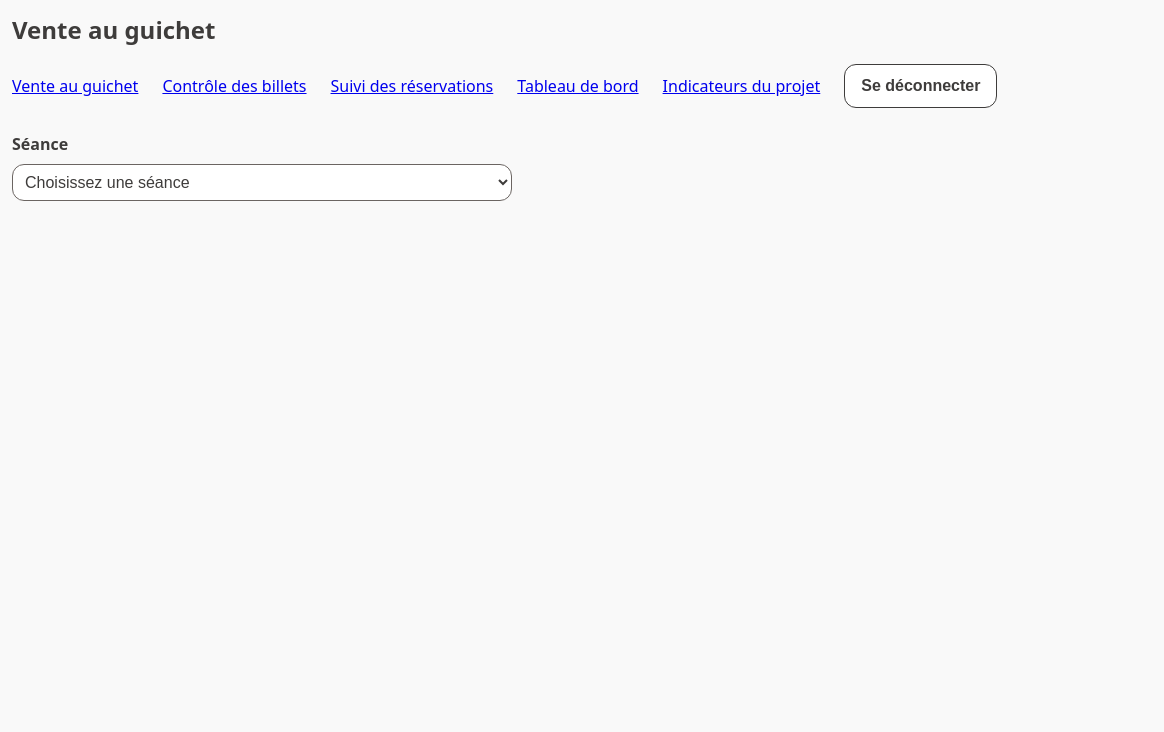
BoxOfficePage (US 7.2) › enregistre la vente avec le mode de paiement et propose les billets à imprimer
Select "ven. 9 oct. 20:30 · Le jazz à Mende · Salle 1 - IMAX" in the dropdown labelled "Séance" at {"x": 262, "y": 182}, box [12, 164, 512, 201]
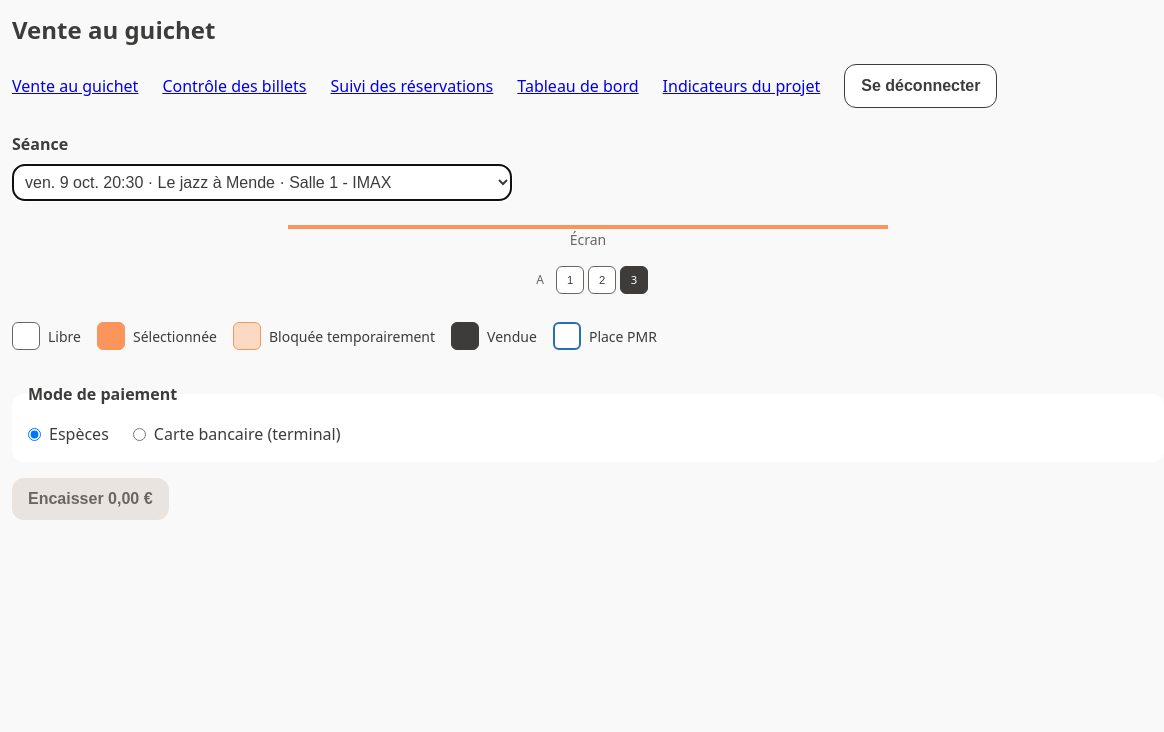
Click the button named "A1 libre".
click(570, 280)  # box [556, 266, 584, 294]
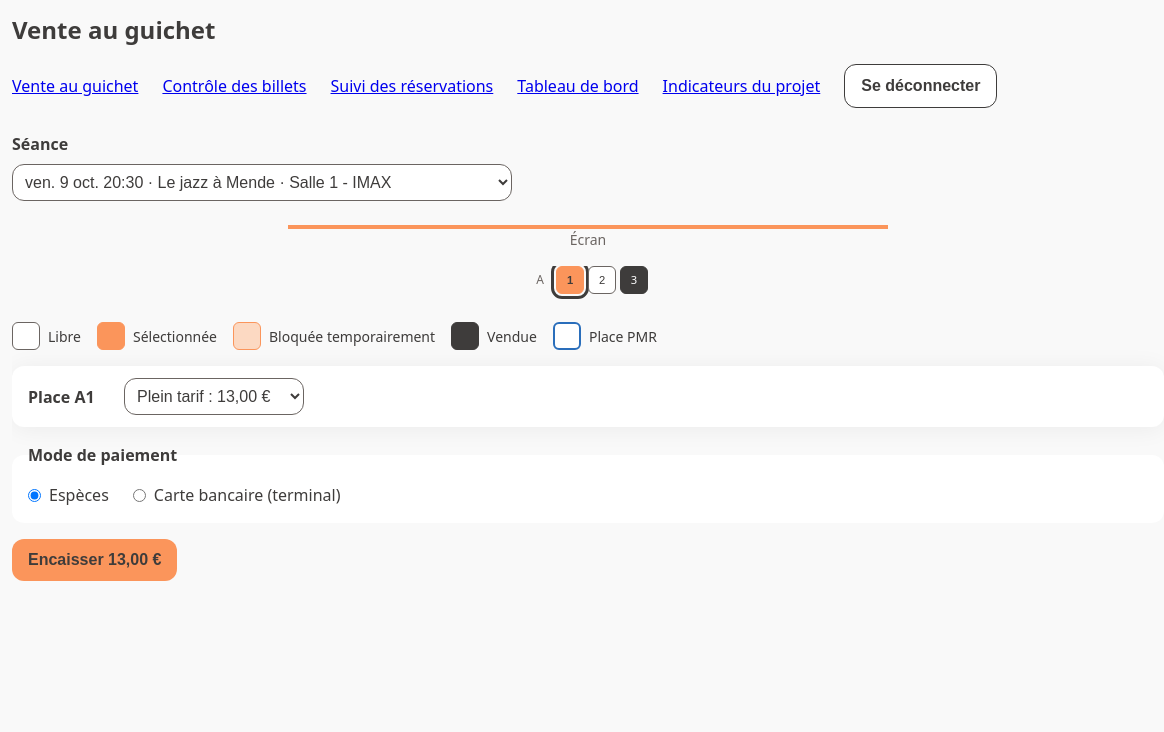
Click the button named "A2 libre".
click(602, 280)  # box [588, 266, 616, 294]
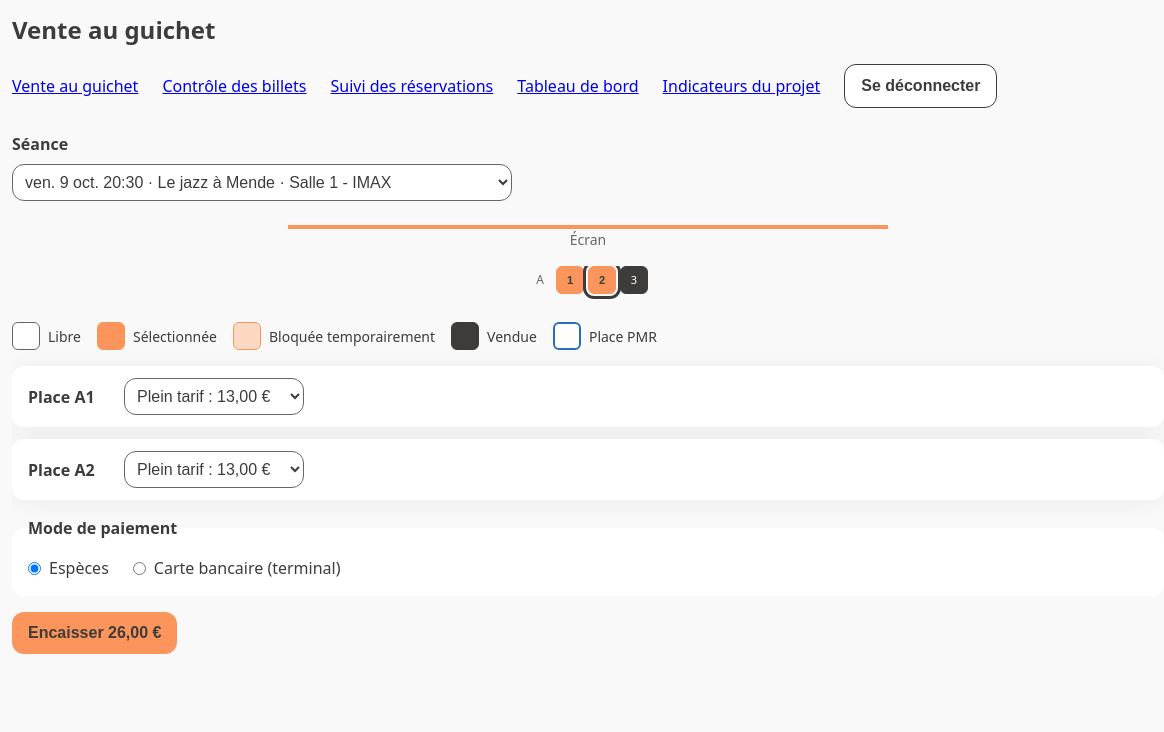
Select "Tarif réduit : 10,50 €" in the dropdown labelled "Place A1" at {"x": 214, "y": 396}, box [124, 378, 304, 415]
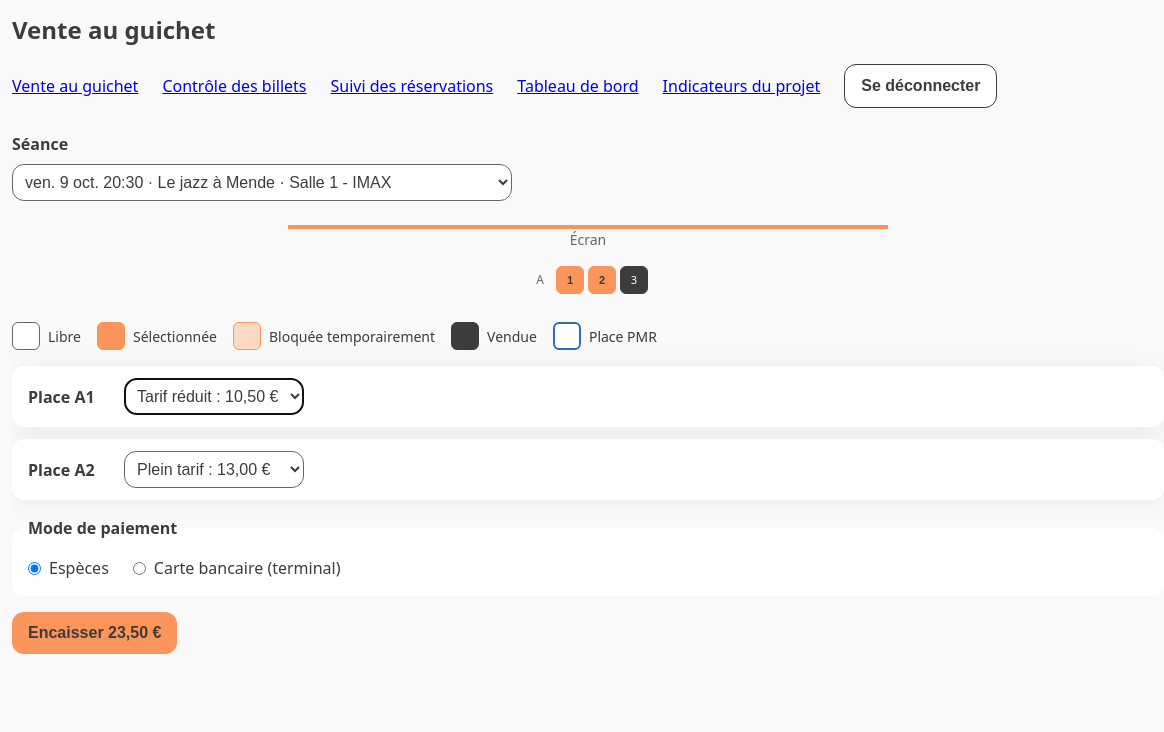
Click the radio button labelled "Carte bancaire (terminal)".
click(139, 568)  # box [133, 562, 146, 574]
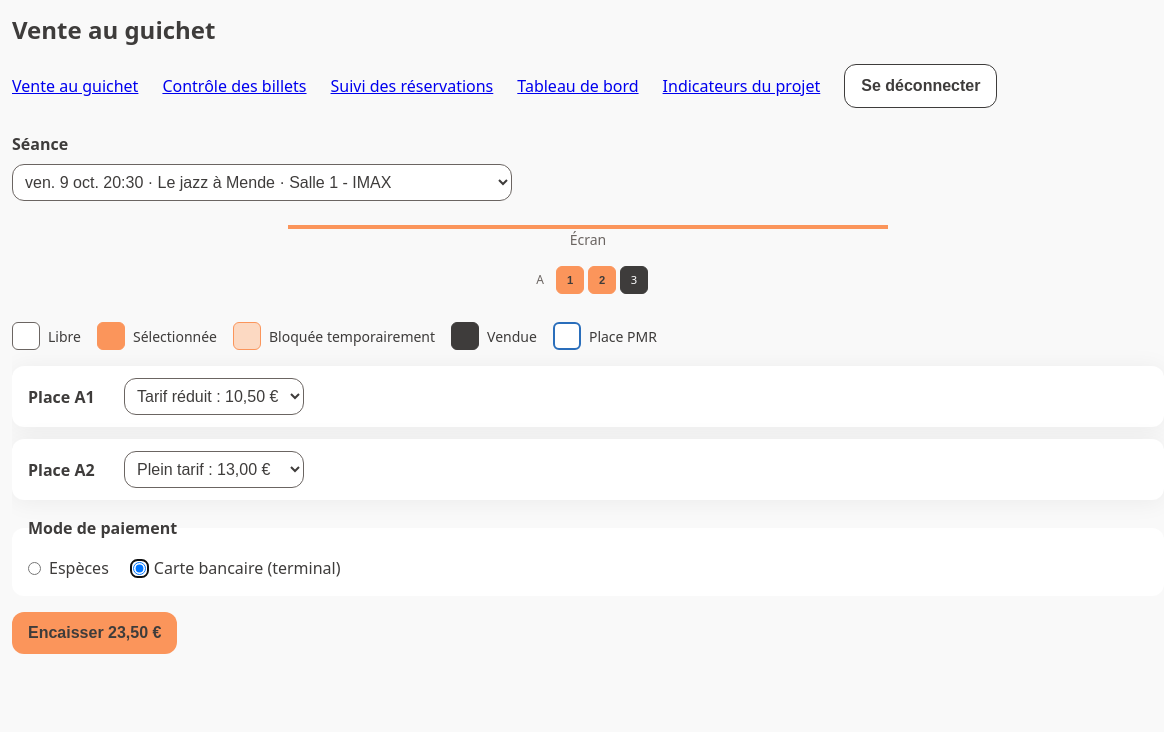
Click the button "Encaisser 23,50 €".
click(95, 633)  # box [12, 612, 177, 654]
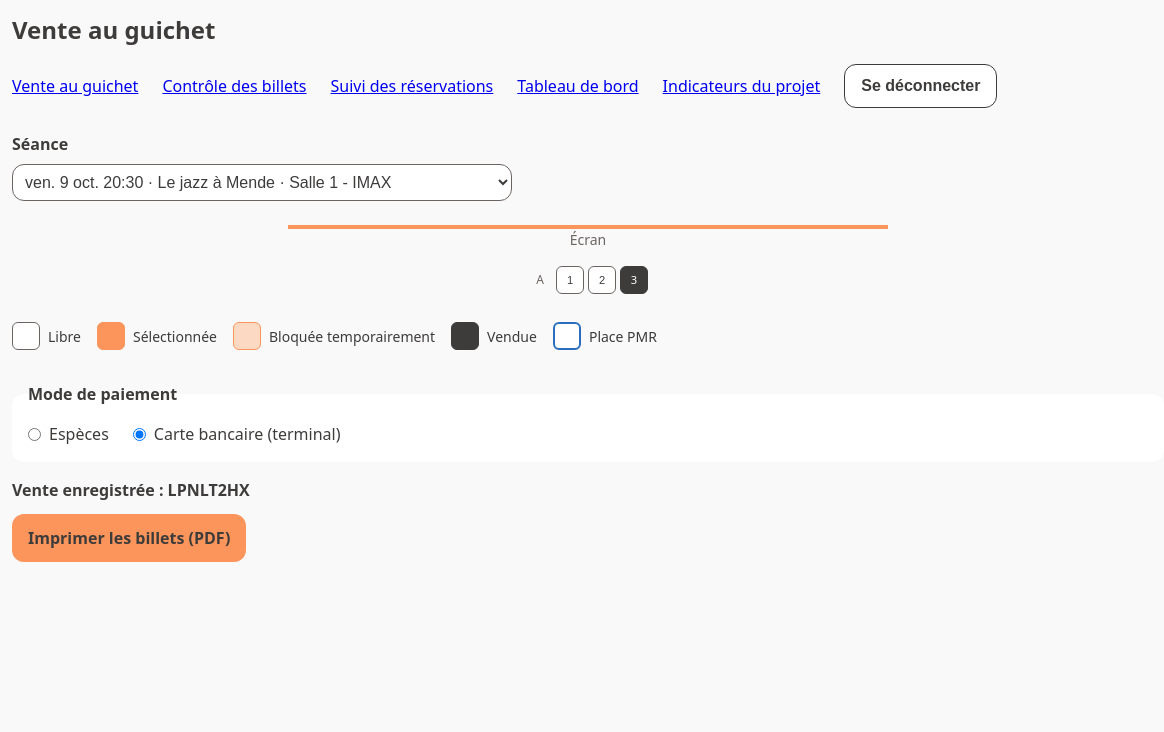
Expected: the text "Vente enregistrée : LPNLT2HX" is shown, [12, 478, 250, 502]
